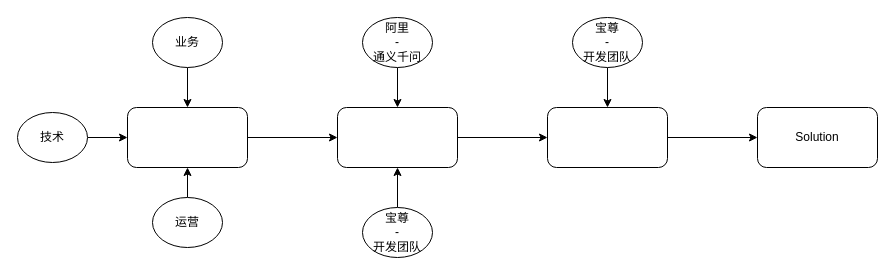
Some shapes in this 895 by 275 pixel diagram are drawn without their labels. The shapes that lost their labels are listed below. From the top down, each one's centre as x and y in pixels, then its label:
At (187,137): "数据分析-角色".
At (397,137): "算法工程-角色".
At (607,137): "Agent编排-角色".
